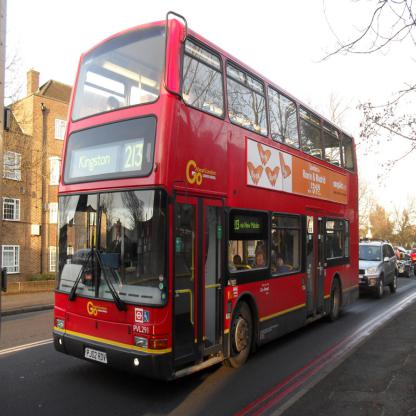Bus: (51, 10, 360, 386)
